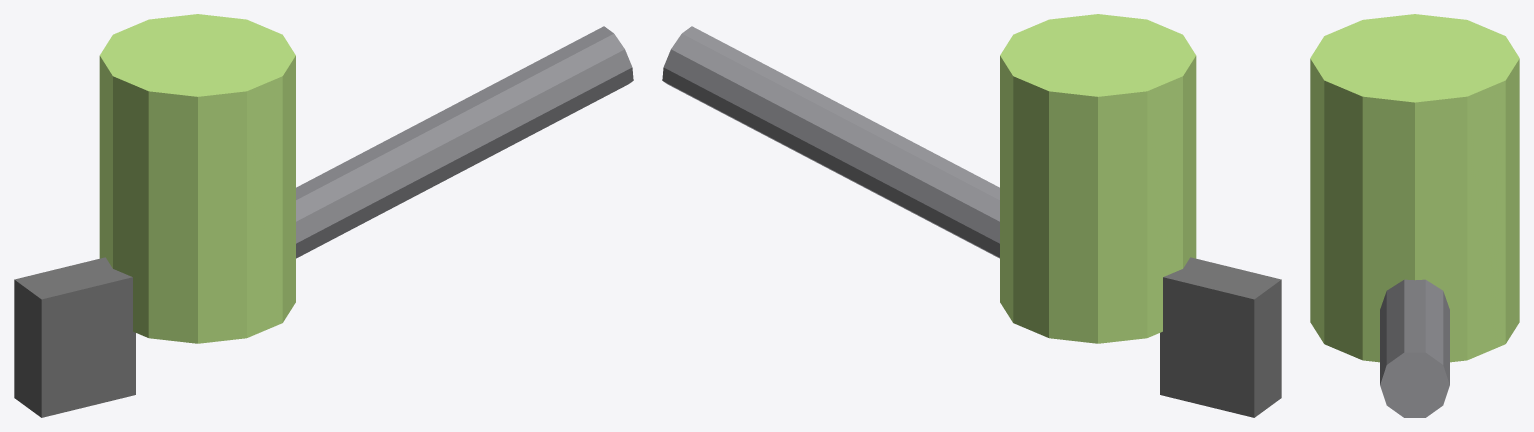
The model's file is gun_glue.glb.
3 views of the same model, side by side, from view 1: azimuth 30°, elevation 25°; view 2: azimuth 150°, elevation 25°; view 3: azimuth 270°, elevation 25° (orthographic). The views are drawn at different scales.
Visible parts, largest first — view 1: gun_glue; view 2: gun_glue; view 3: gun_glue.
Part boxes in pixels (left/top/right/bottom): gun_glue: left=14, top=14, right=633, bottom=417; gun_glue: left=662, top=14, right=1281, bottom=417; gun_glue: left=1310, top=14, right=1519, bottom=417.
Size of the model in its own units: 0.6306 by 0.315 by 0.18.
